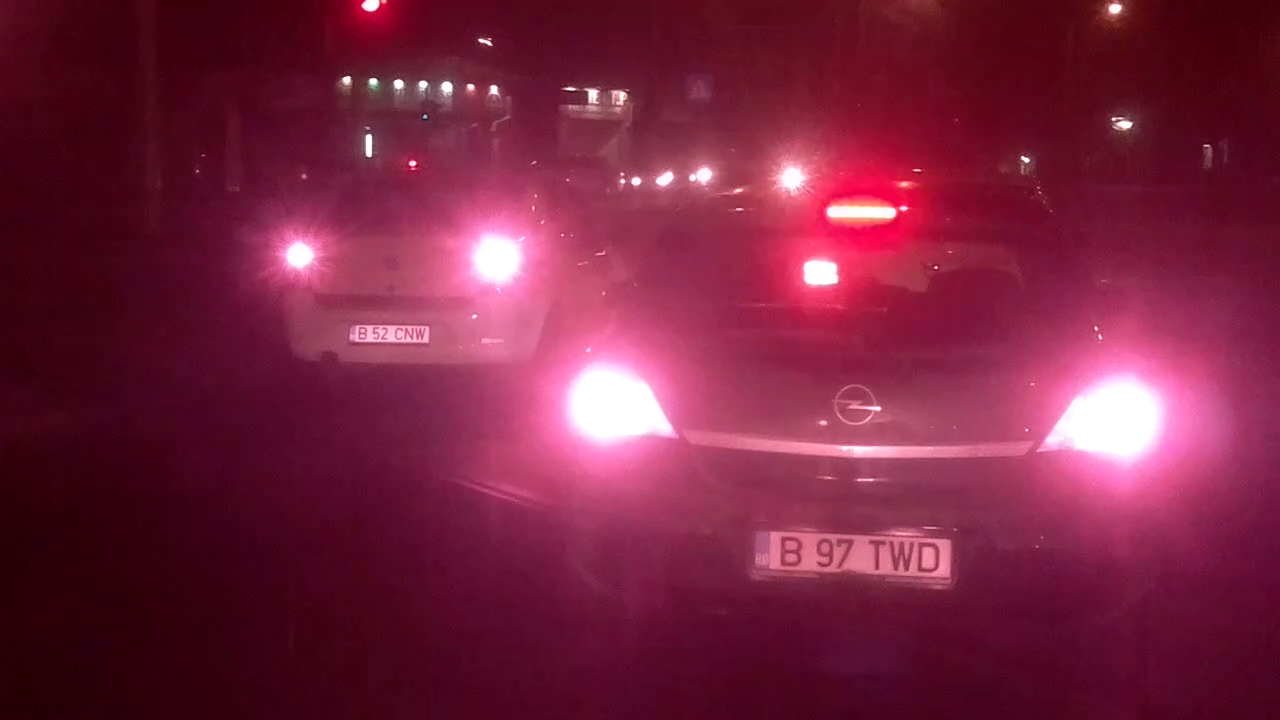license-plate: (744, 523, 958, 588), (345, 321, 433, 347)
